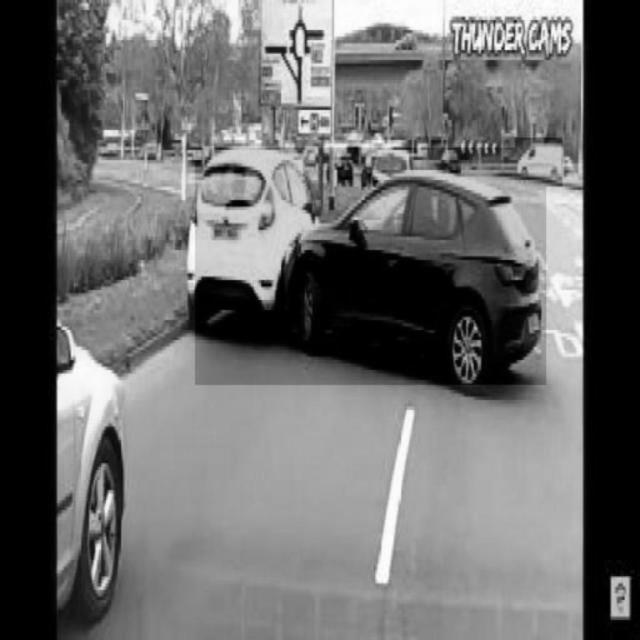accident: (195, 148, 545, 385)
vehicle: (516, 138, 563, 186)
